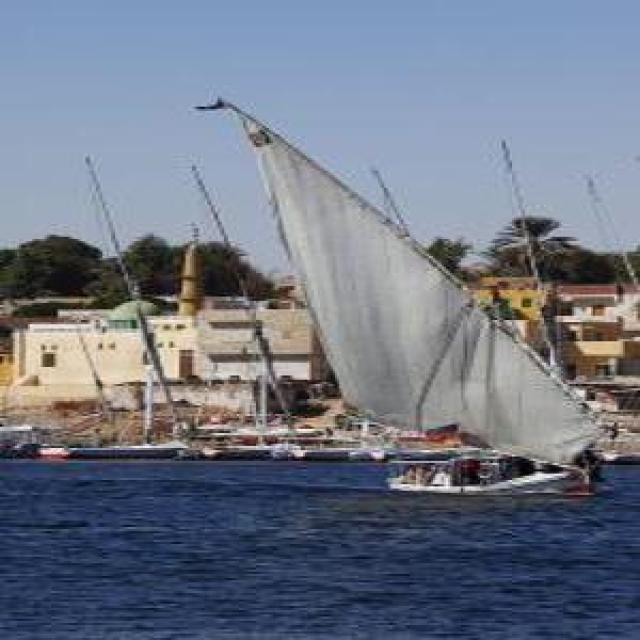sailboat: (214, 93, 604, 496)
